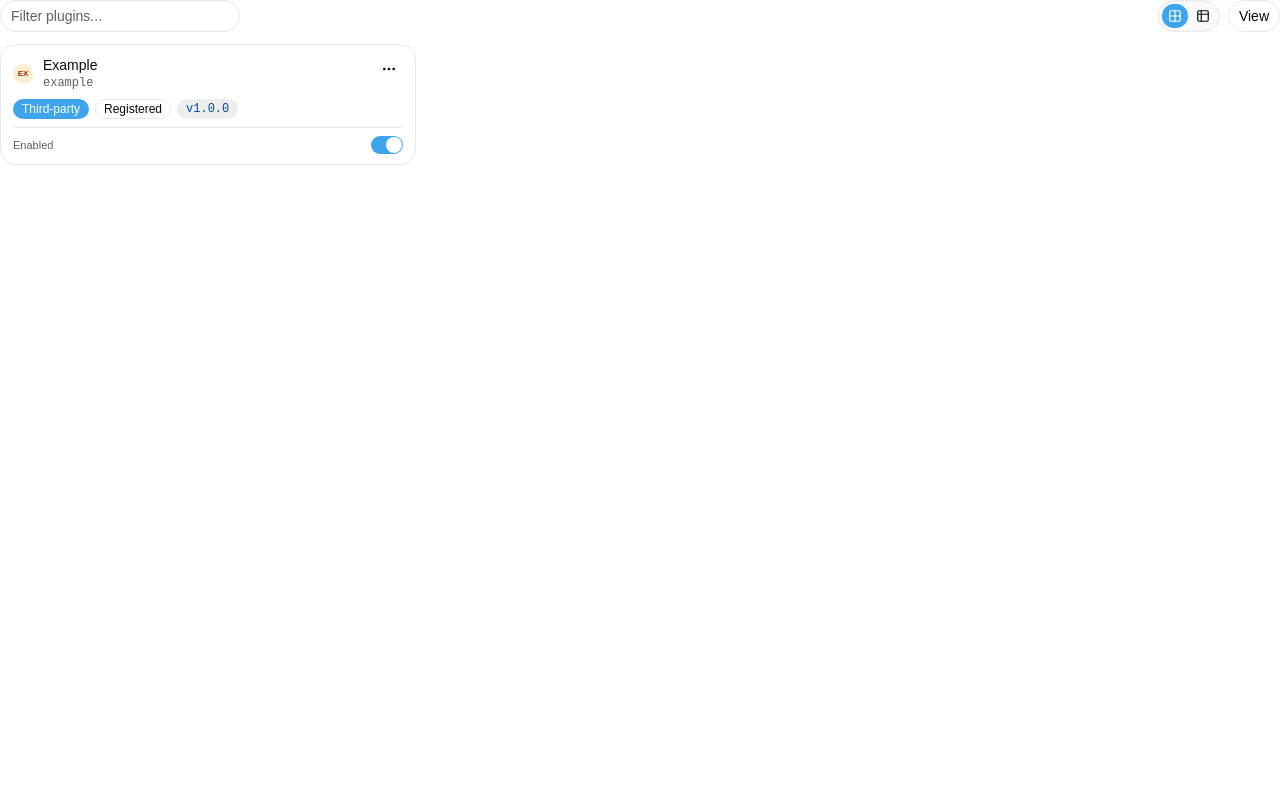
Scenario: card view: changing enabled=true requires confirmation and cancellation preserves status
The width and height of the screenshot is (1280, 800).
Click the switch named "Enable plugin example". click: x=387, y=145
box: x1=371 y1=136 x2=403 y2=154
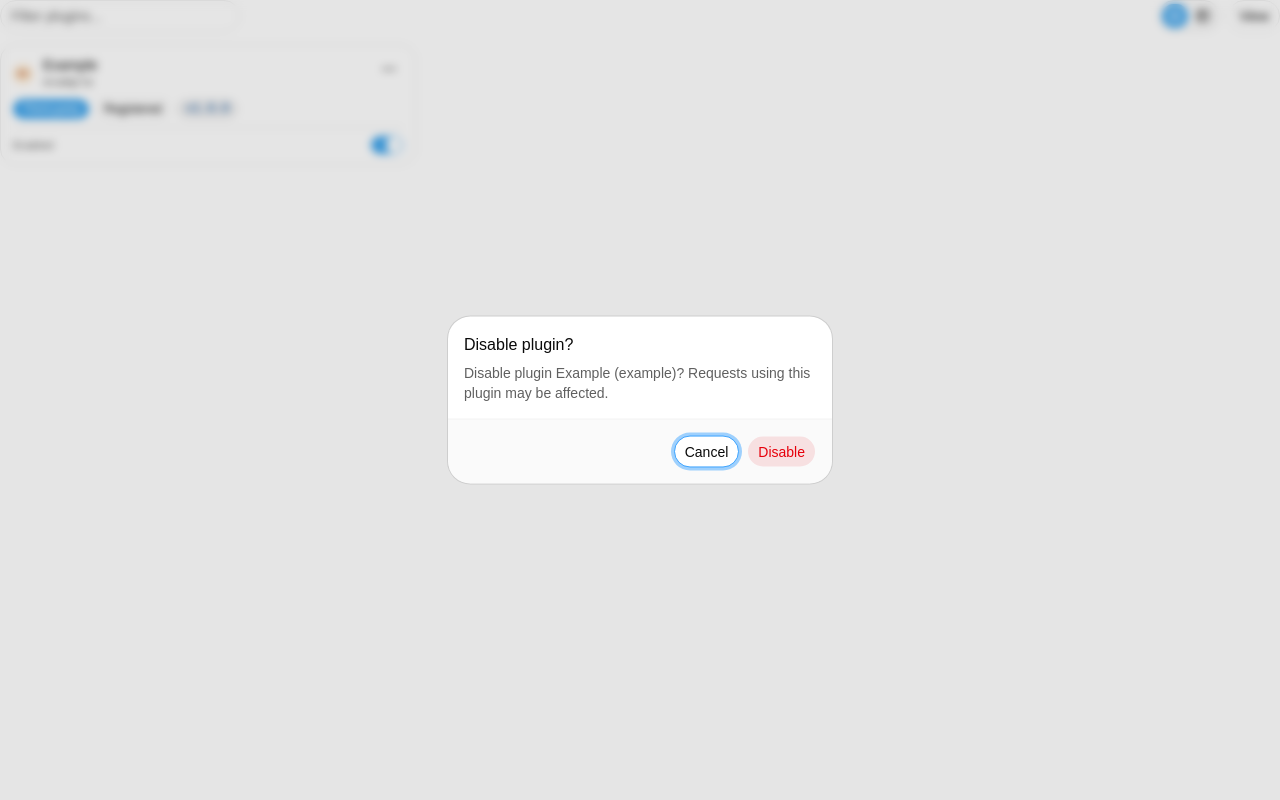
expect the dialog "Disable plugin?" shows "Example": met, box x1=464 y1=364 x2=810 y2=400
Click the button "Cancel". click: x=706, y=452
box: x1=674 y1=436 x2=739 y2=468
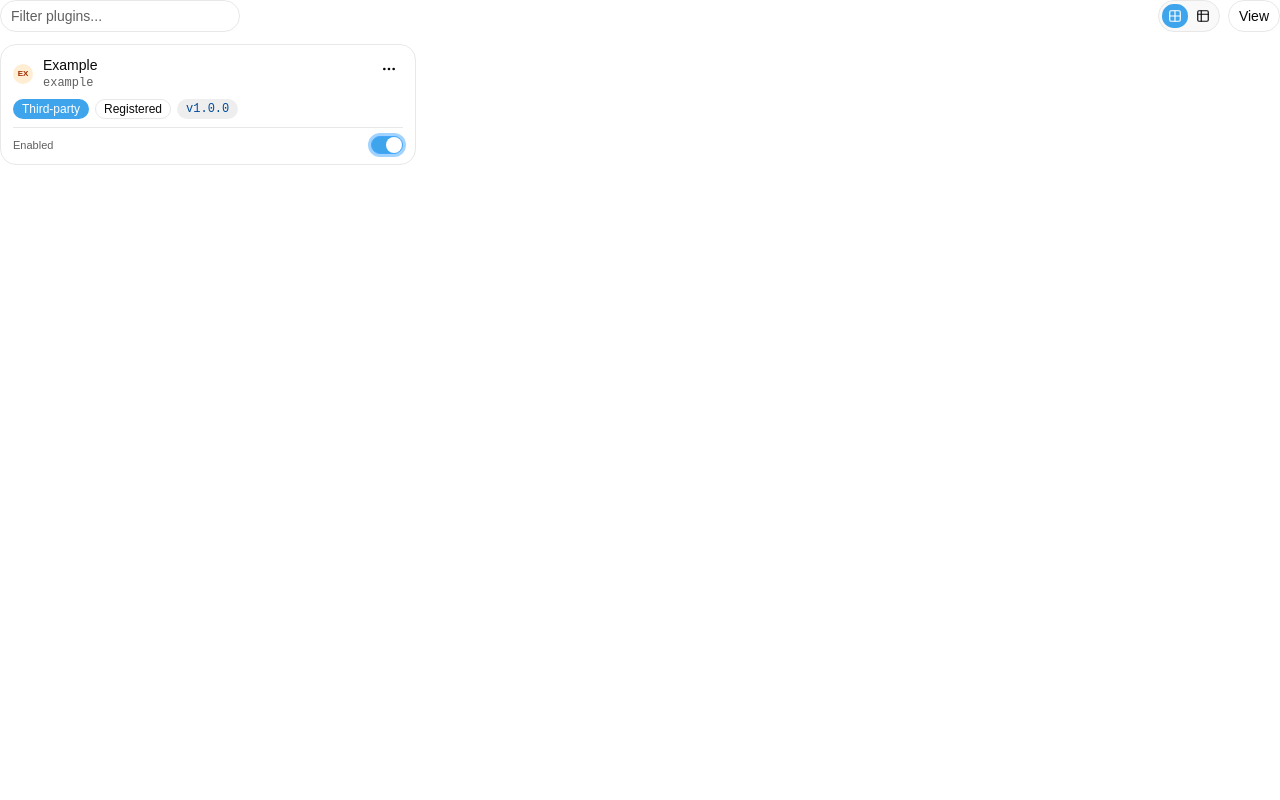
expect the dialog is gone: met
Click the switch named "Enable plugin example". click: x=387, y=145
box: x1=371 y1=136 x2=403 y2=154
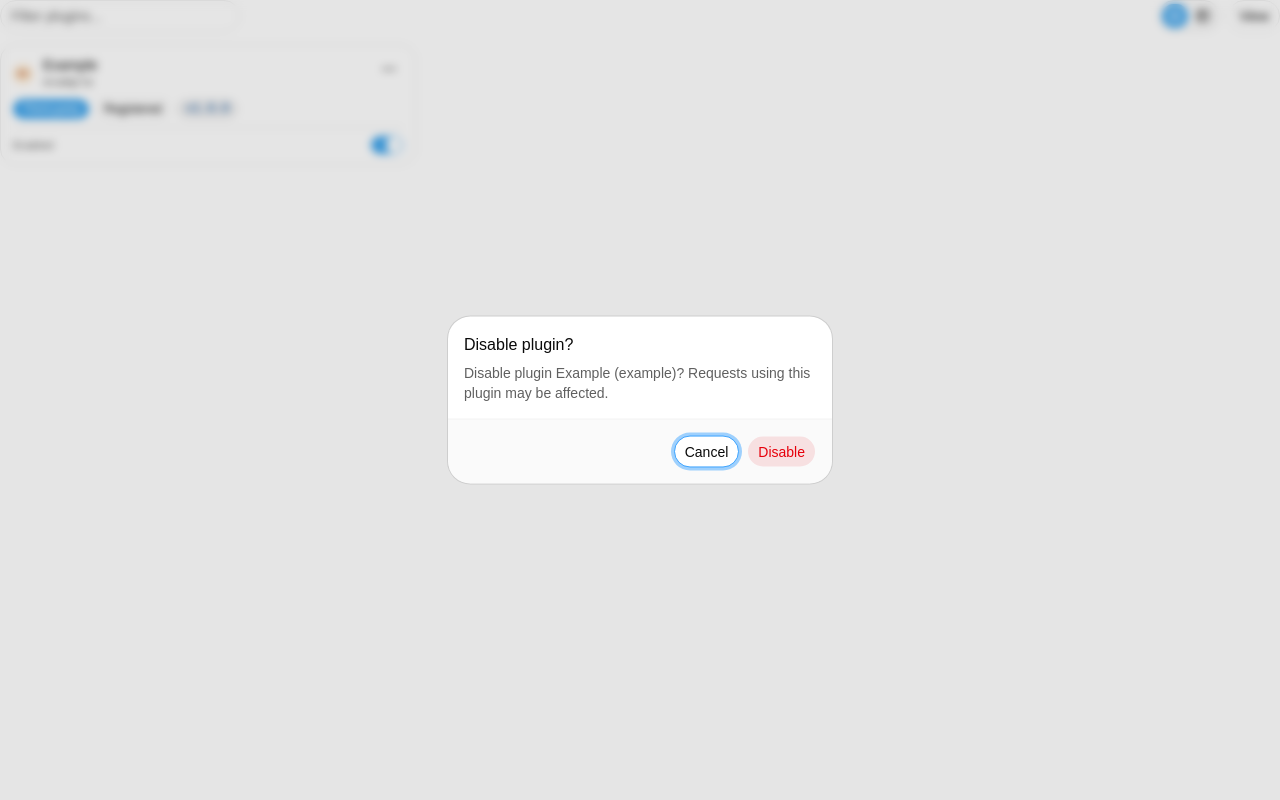
Click the button "Disable". click: x=782, y=452
box: x1=747 y1=436 x2=816 y2=468
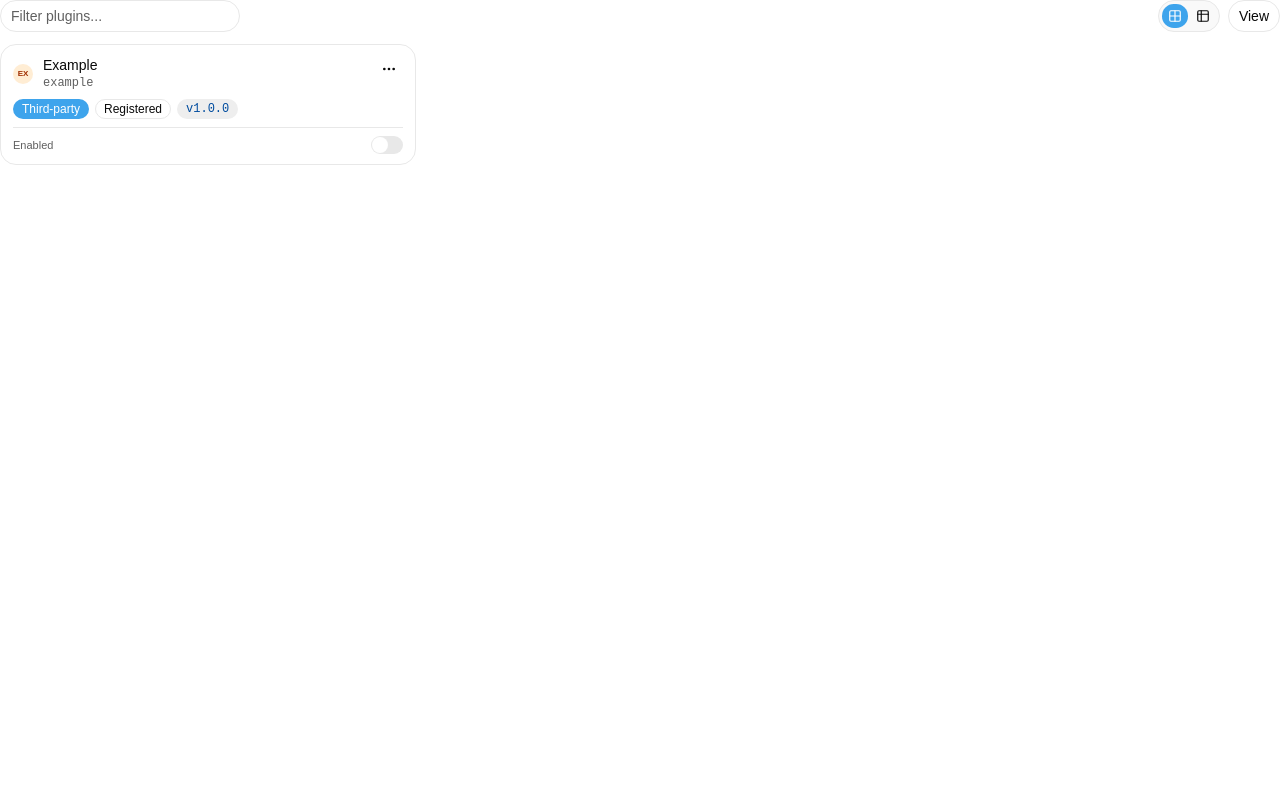
expect the dialog is gone: met
